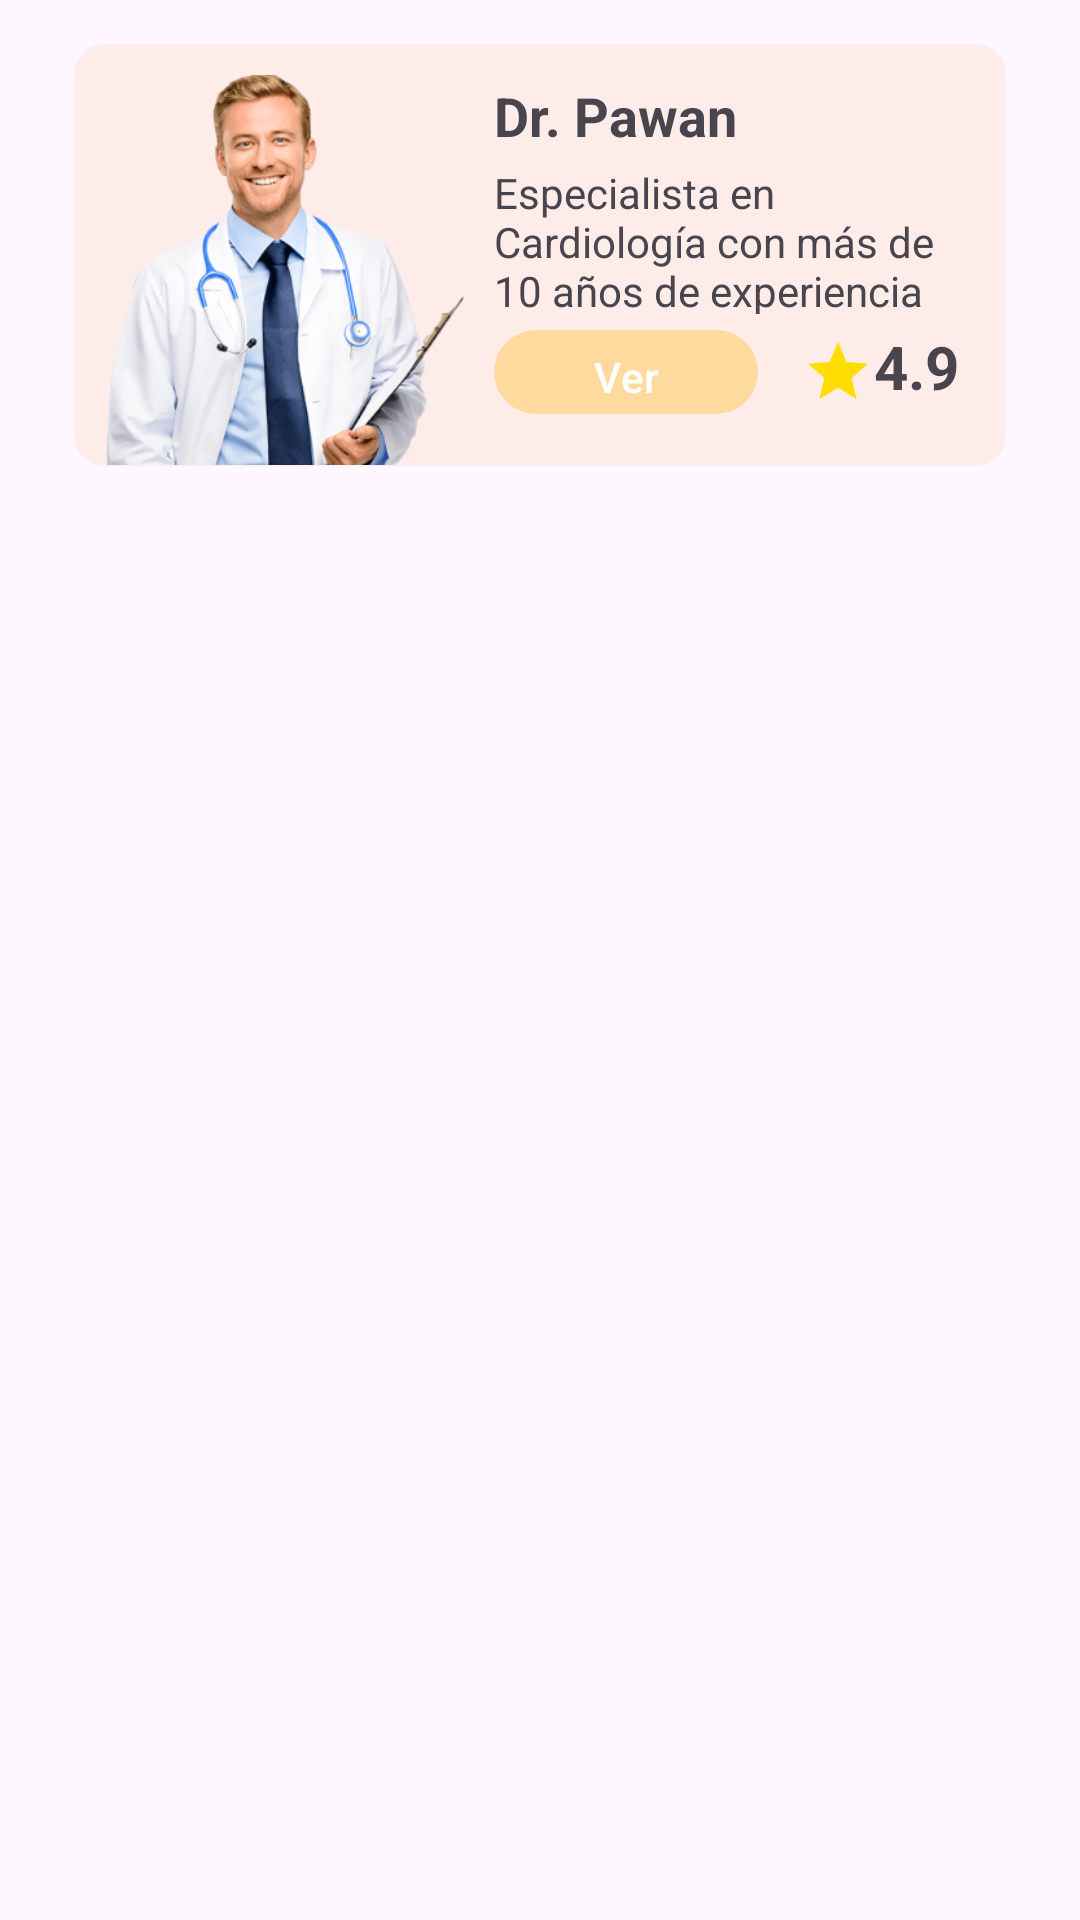

Icons on this 1080*1920 Android screen, each with its box as (x1,y1,x2,y2):
Rating: (808,342,868,399)
